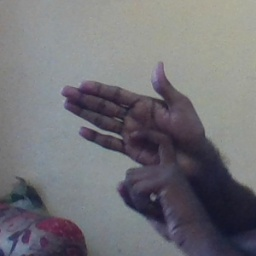R: (58, 58, 205, 210)
